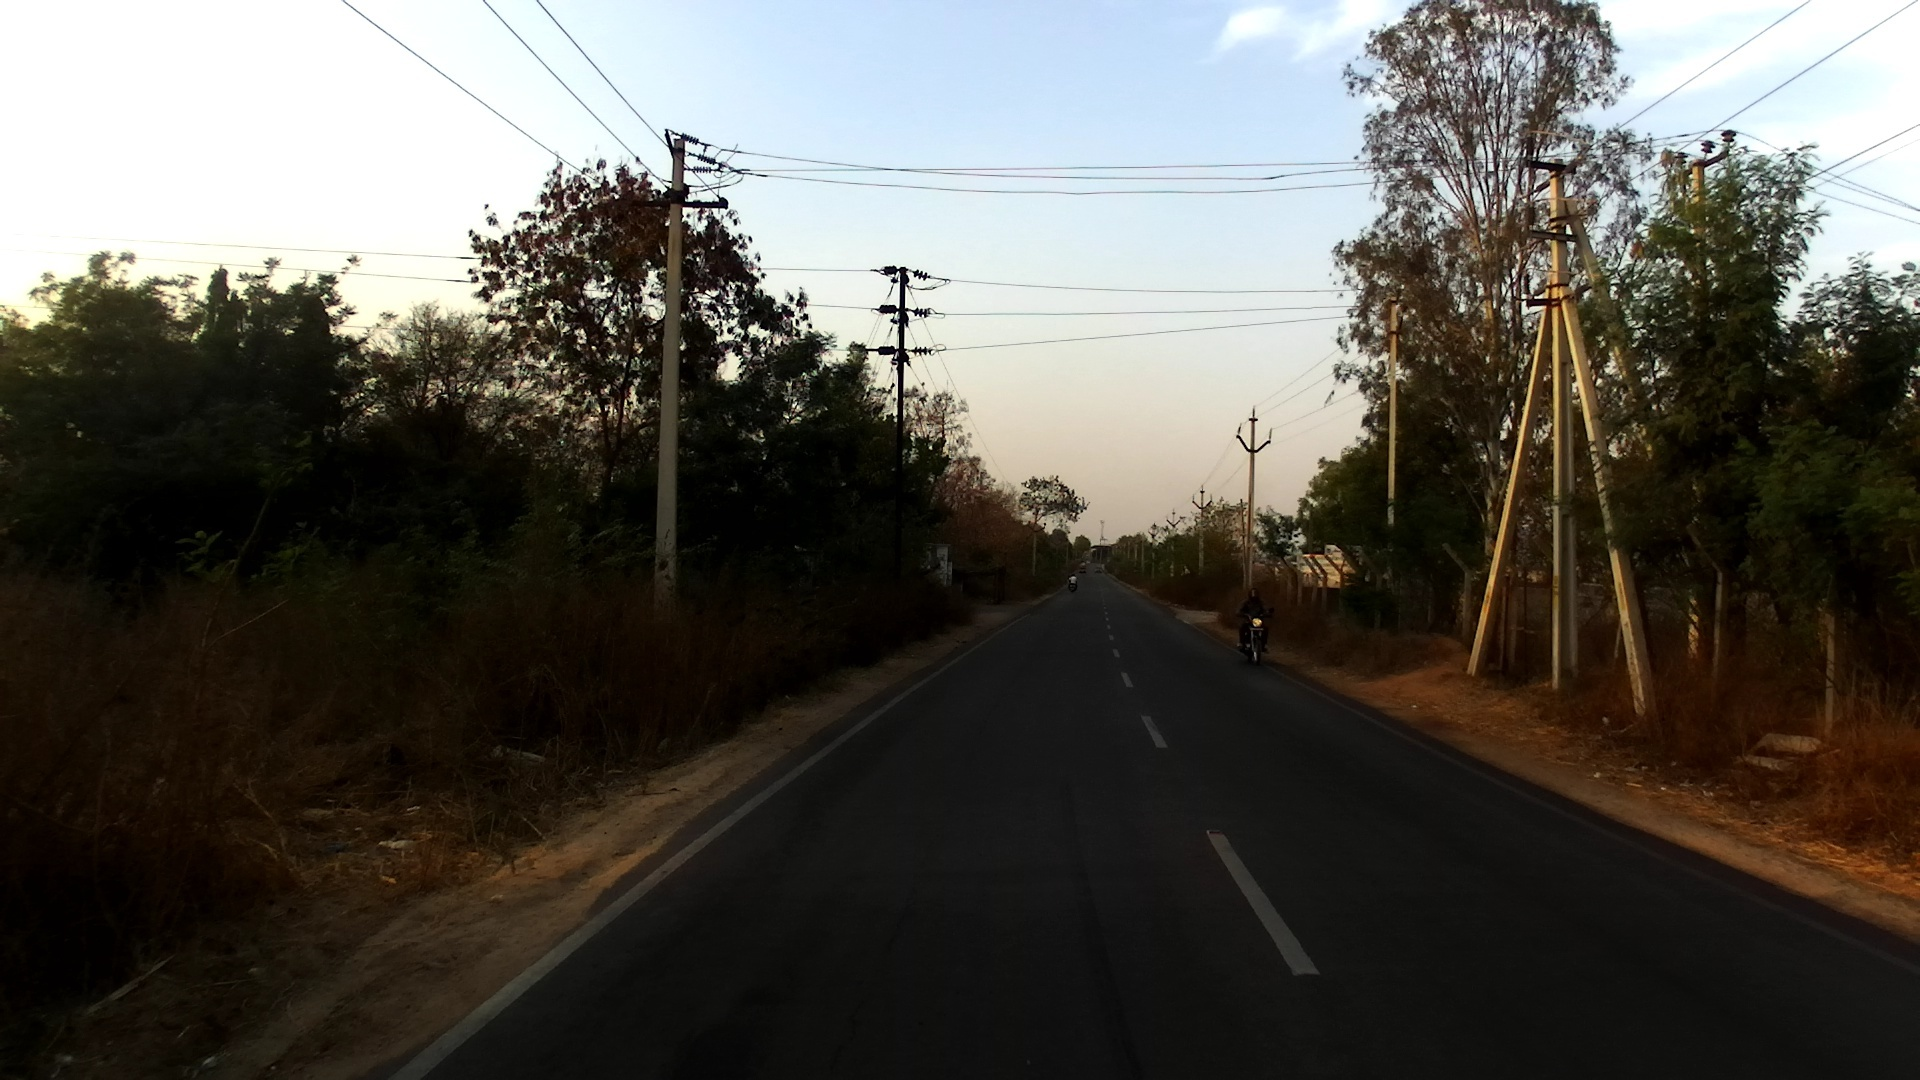autorickshaw: (1078, 562, 1087, 574)
car: (1093, 562, 1107, 576)
motorcycle: (1234, 611, 1270, 666), (1067, 576, 1080, 596)
rider: (1236, 583, 1274, 655), (1067, 572, 1079, 591), (1067, 576, 1075, 587)
